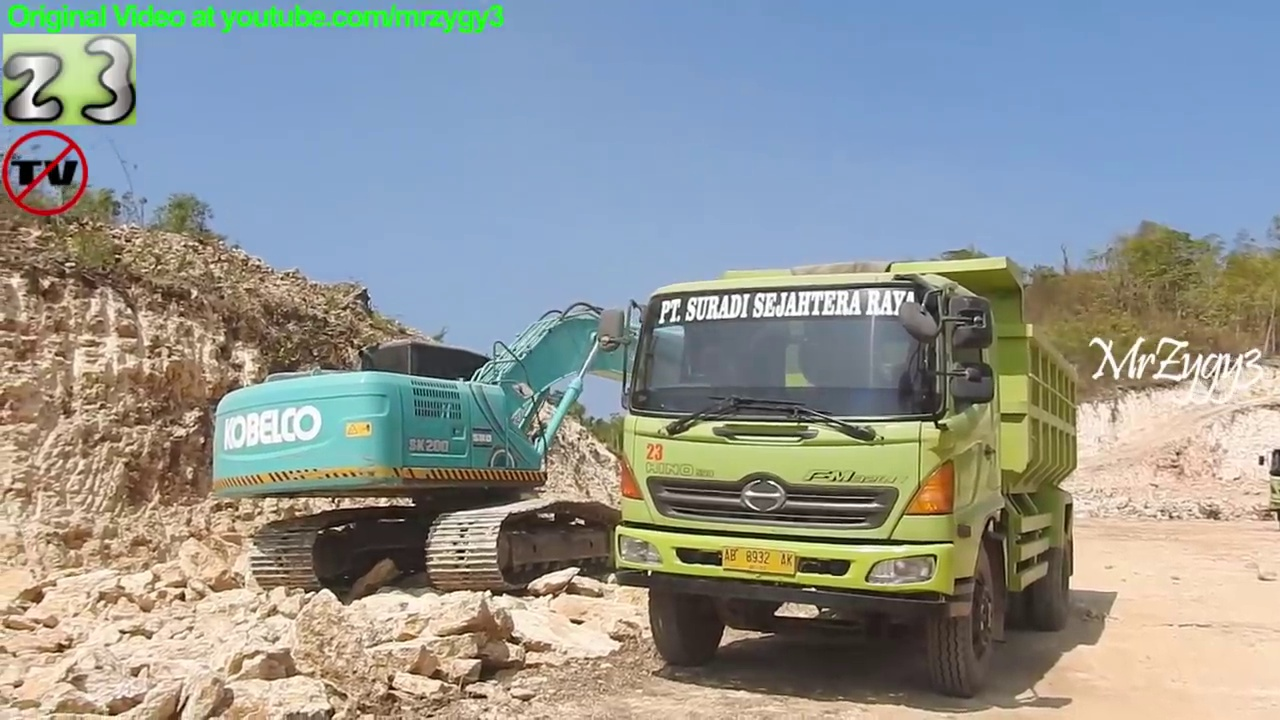excavator: (202, 293, 912, 606)
truck: (591, 248, 1092, 706), (1254, 443, 1280, 529)
